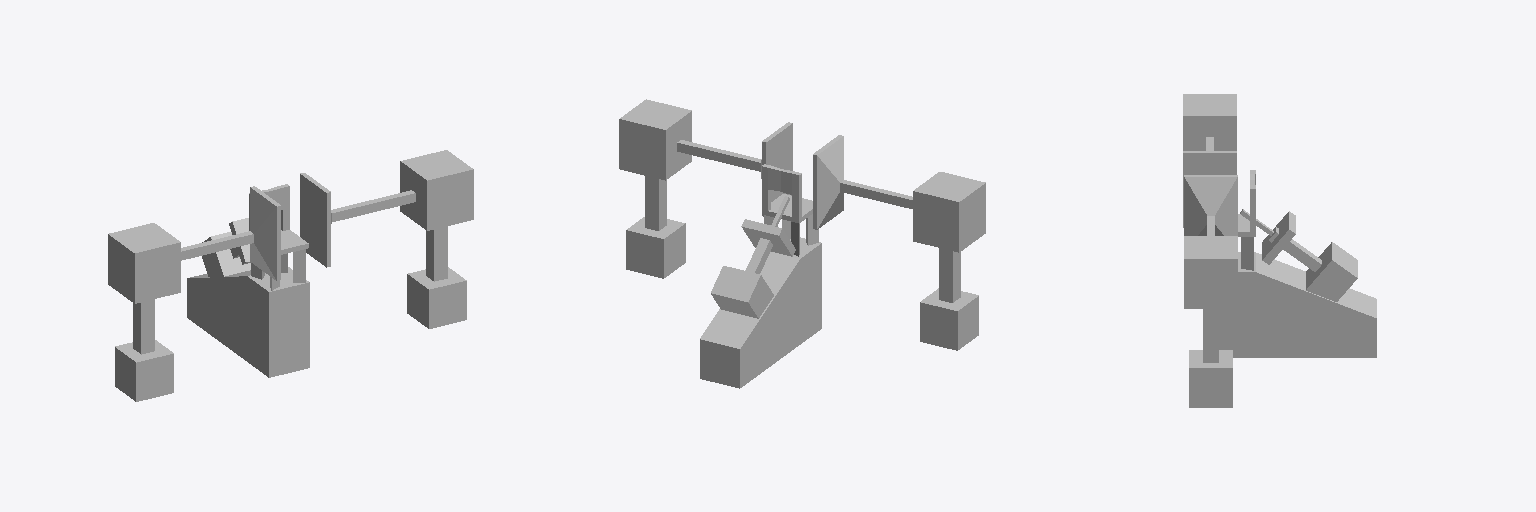
The model's file is мамаэбинатор.obj.
3 renders of one model, left to right at view 1: azimuth 30°, elevation 25°; view 2: azimuth 150°, elevation 25°; view 3: azimuth 270°, elevation 25°, orthographic.
Visible parts, largest first — view 1: Cube; view 2: Cube; view 3: Cube.
Part boxes in pixels (x1,y1,x2,y2): Cube: (108,150,473,401); Cube: (619,99,985,388); Cube: (1183,94,1376,407).
Size of the model in its own units: 17.95 by 9.32 by 8.86.